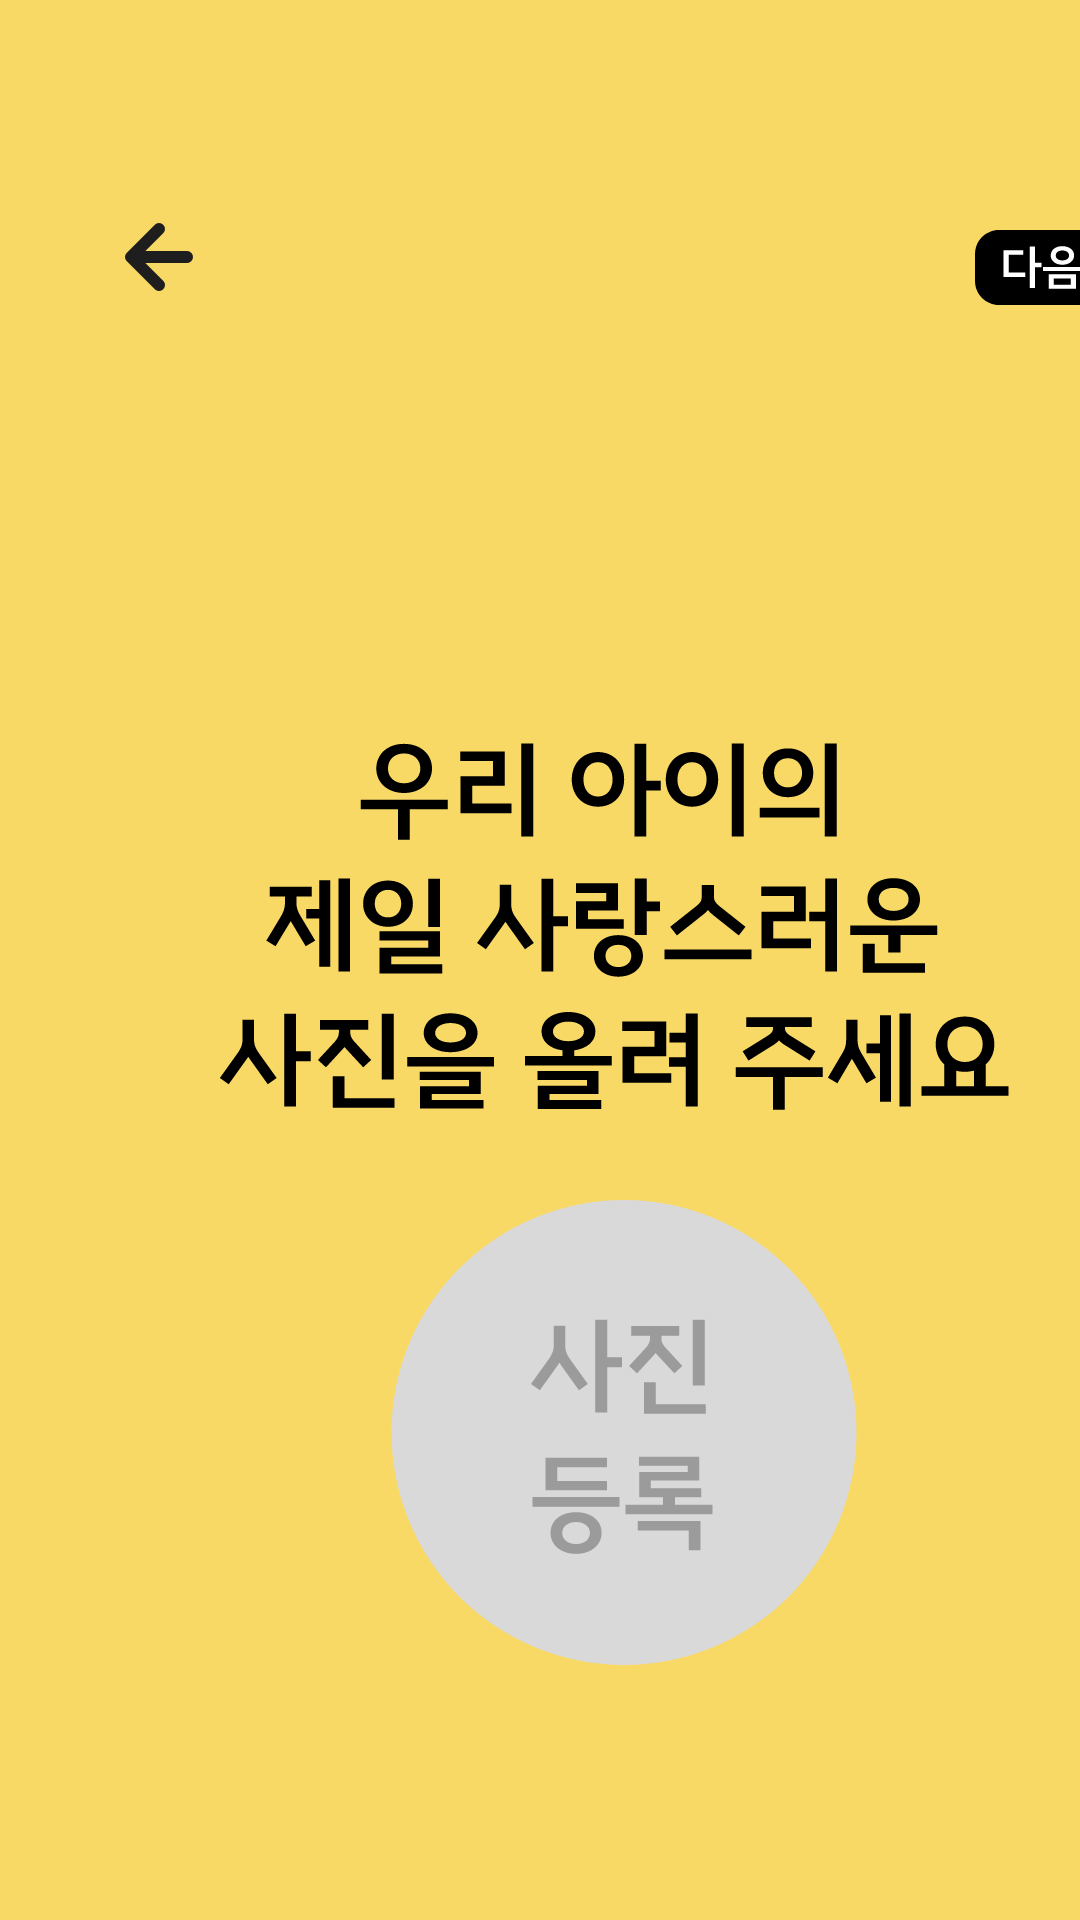

Where to tap for icons on this 1080px×1920px app screen, as point (x, y):
arrow left: point (159, 257)
